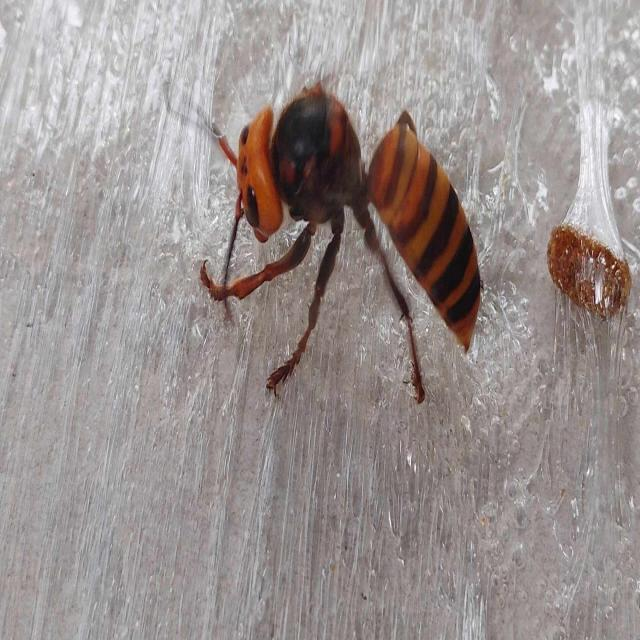Wasp: (182, 61, 488, 410)
